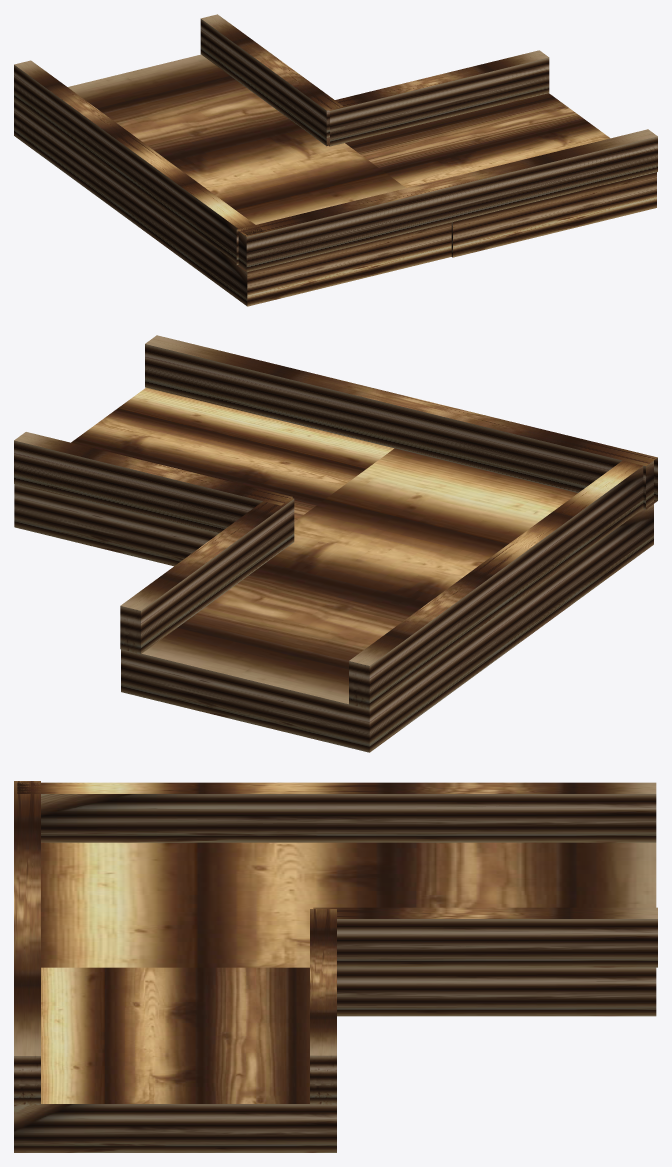
File: G - Sharp L.obj
The picture shows the model from 3 angles, top to bottom: view 1: azimuth 30°, elevation 25°; view 2: azimuth 150°, elevation 25°; view 3: azimuth 270°, elevation 25°; orthographic projection. The views are drawn at different scales.
Parts seen in each view (by area): view 1: polySurface8; view 2: polySurface8; view 3: polySurface8.
Boxes of the visible parts, bbox=[...] form: polySurface8: bbox=[14, 14, 657, 306]; polySurface8: bbox=[14, 335, 657, 752]; polySurface8: bbox=[14, 781, 657, 1152].
Size of the model in its own units: 846 by 140 by 838.
